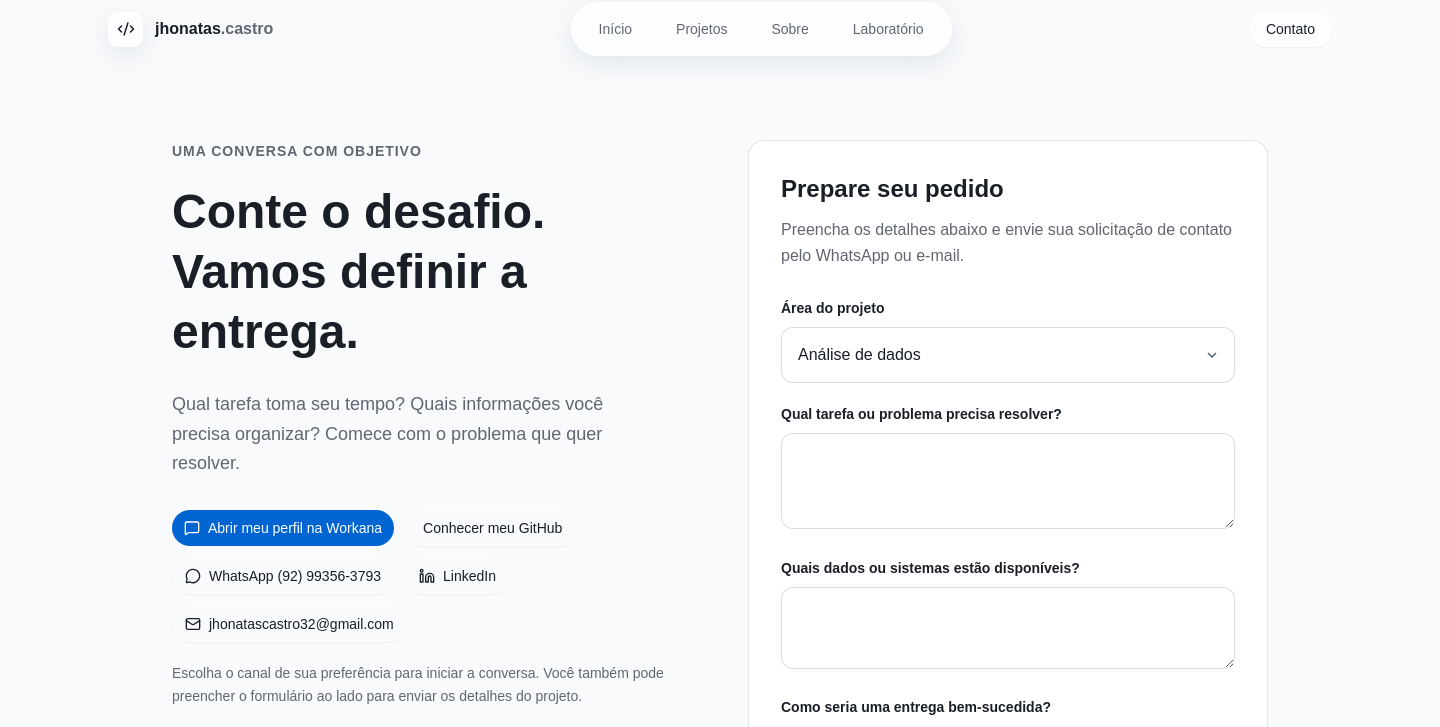
Scenario: Portfolio interactions › offers real contact destinations and prepares a contact request via WhatsApp or email
Type "Organizar planilhas" into the text box labelled "Qual tarefa ou problema precisa resolver?" at (1008, 481), box x1=781 y1=433 x2=1235 y2=529
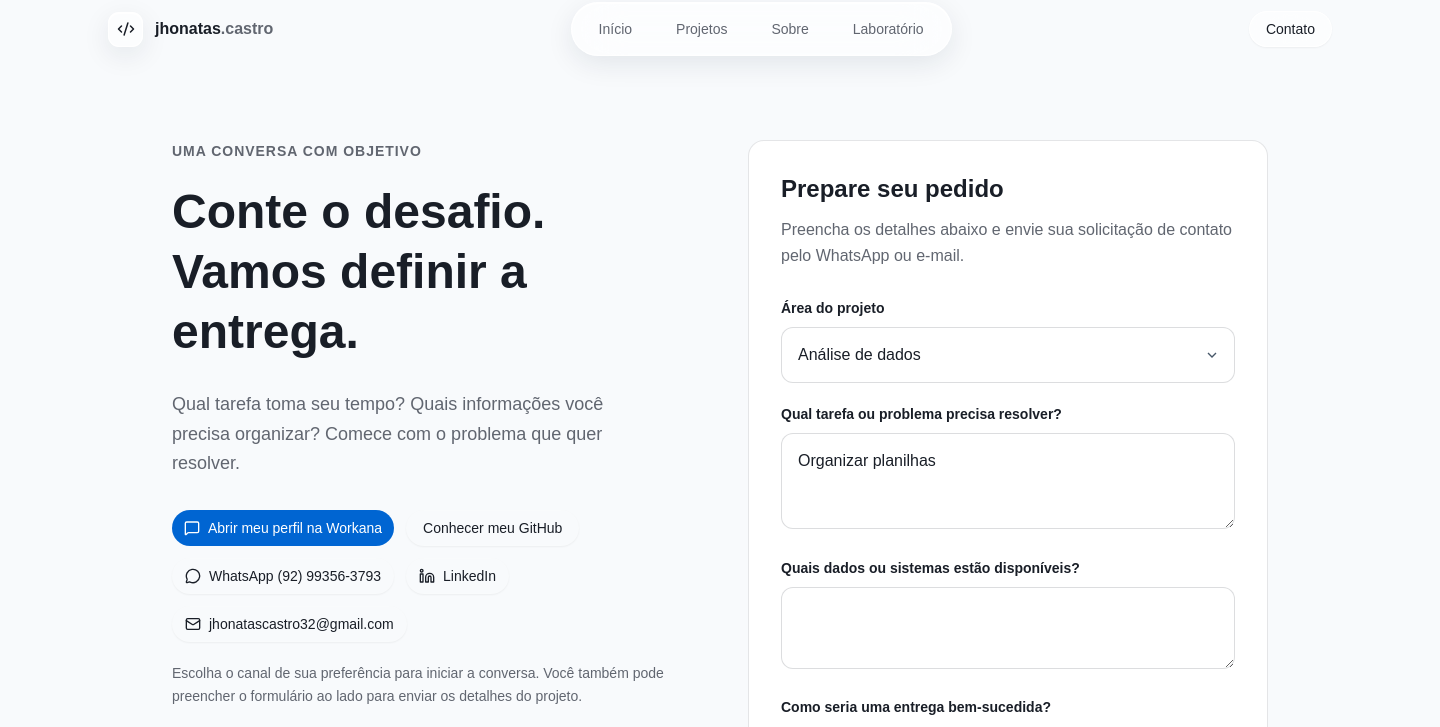
Type "Arquivos CSV" into the text box labelled "Quais dados ou sistemas estão disponíveis?" at (1008, 628), box x1=781 y1=587 x2=1235 y2=669
(page scrolled)
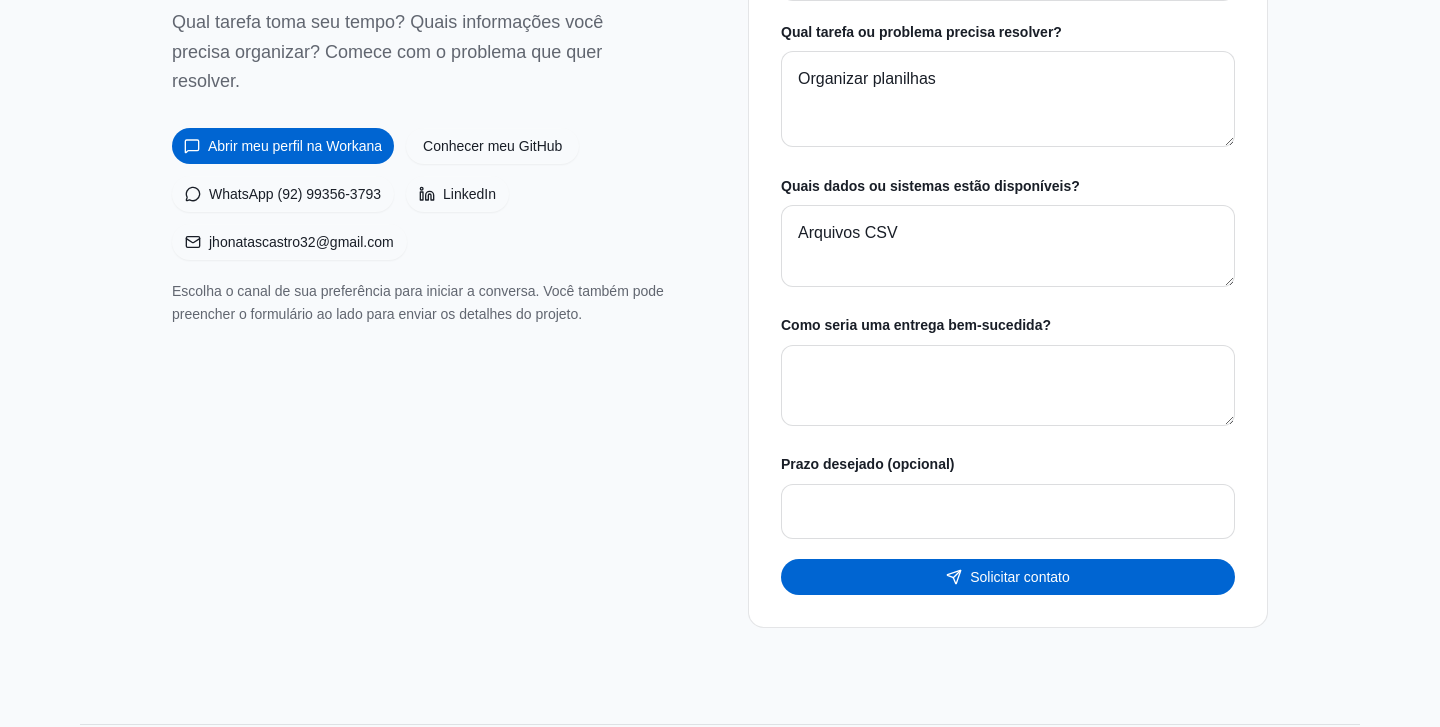
Type "Uma base limpa" into the text box labelled "Como seria uma entrega bem-sucedida?" at (1008, 385), box x1=781 y1=344 x2=1235 y2=426
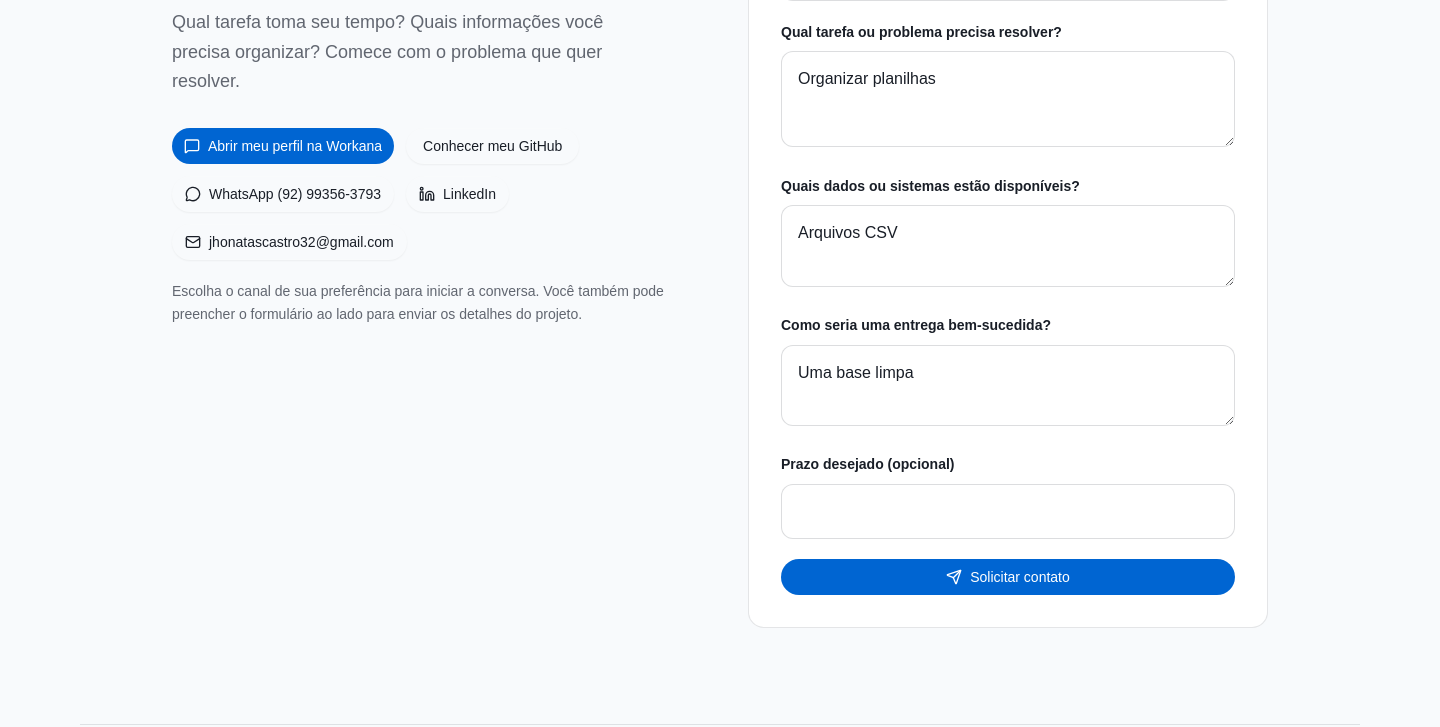
Click the button "Solicitar contato" at (1008, 577), box x1=781 y1=559 x2=1235 y2=595
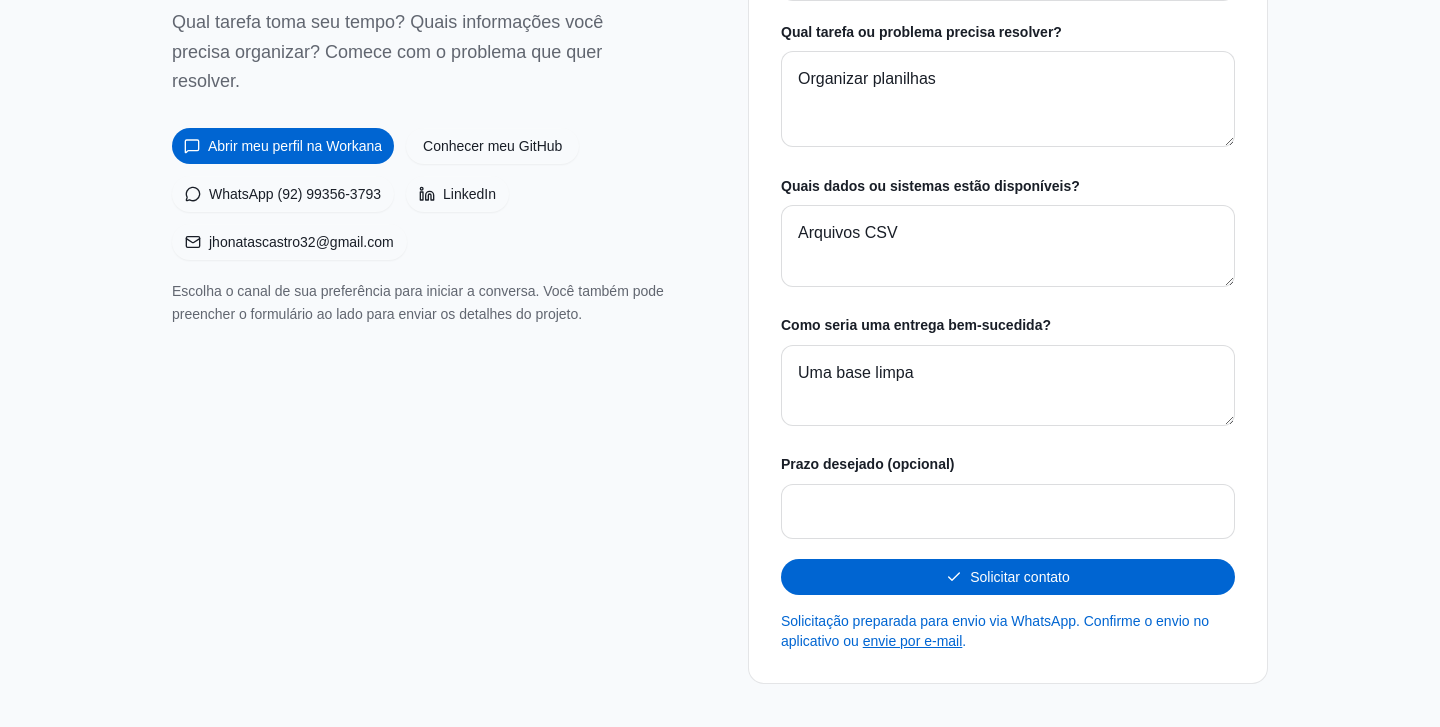
Now the message shows "Solicitação preparada para envio via WhatsApp", box x1=781 y1=613 x2=1209 y2=649
